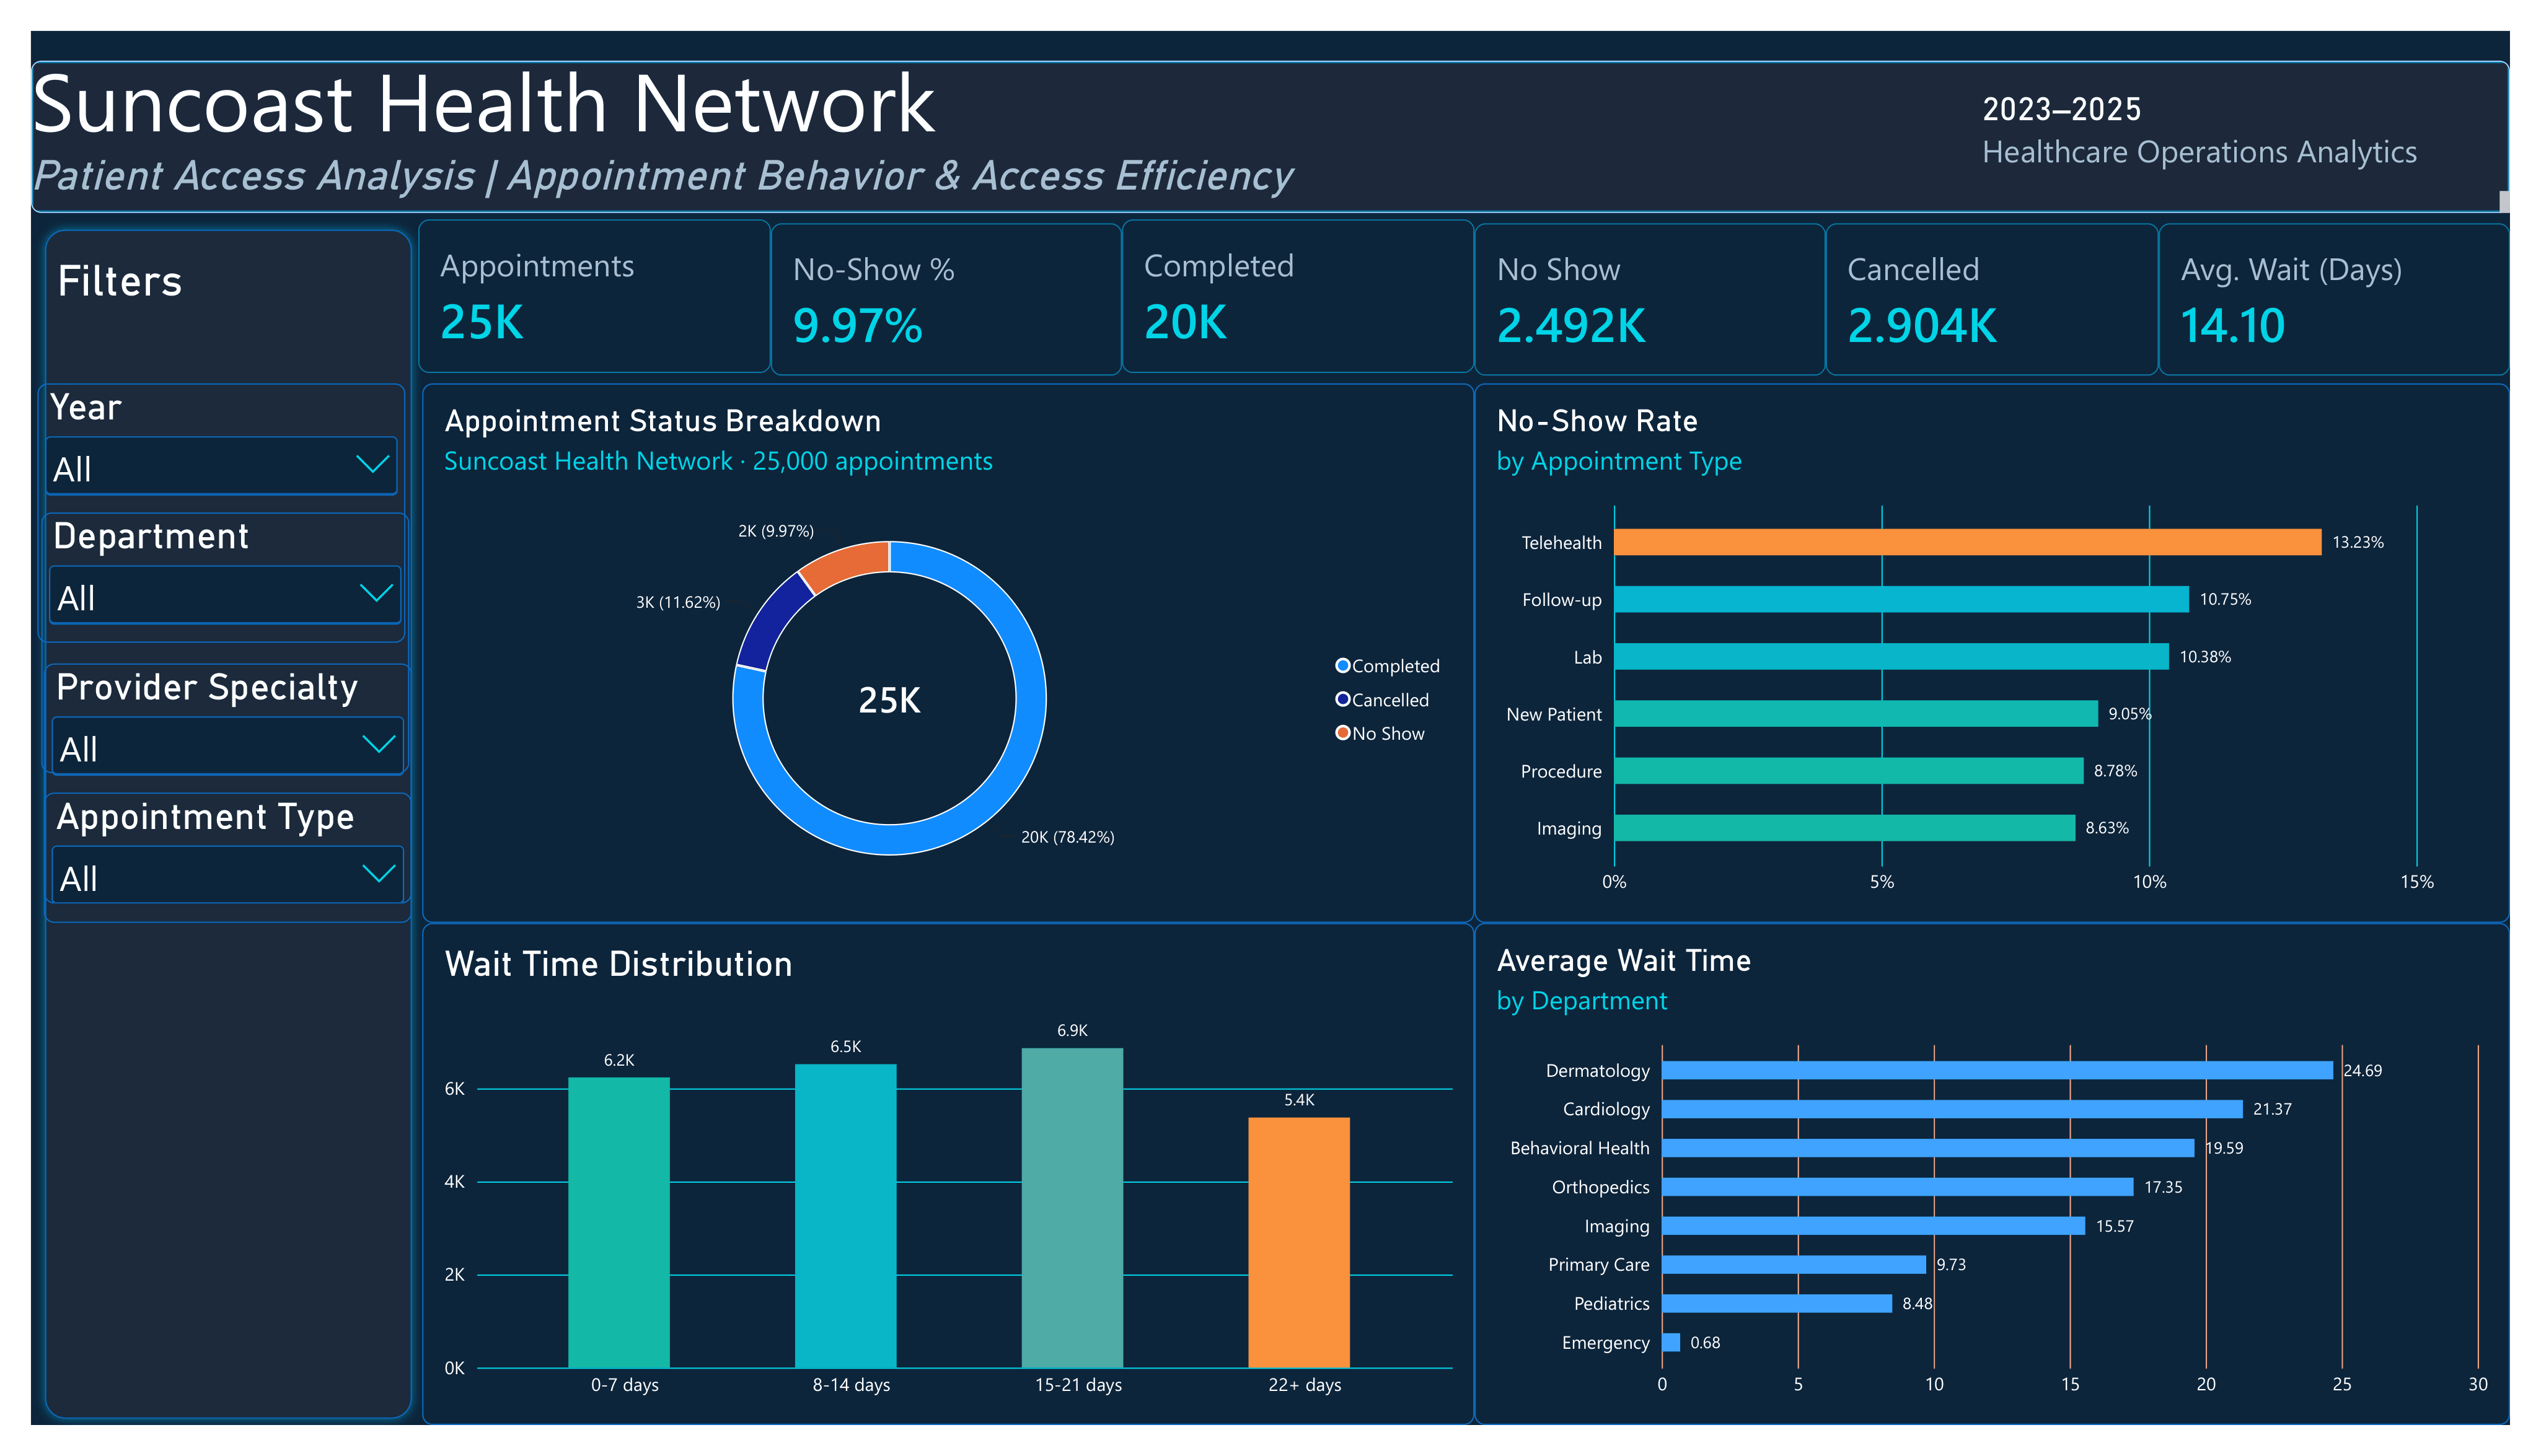

Layout of this report page (visuals, bound fields, positions):
{"tool":"powerbi","page":{"name":"Patient Access Analysis","canvas":[1920,1080],"ordinal":1},"visuals":[{"type":"shape","box":[0,22.7,1920.3,118.6],"z":0},{"type":"textbox","title":"Suncoast Health Network","box":[0,10.1,1140.6,138.8],"z":1000},{"type":"textbox","title":"Patient Access Analysis | Appointment Behavior & Access Efficiency","box":[0,93.4,1920.3,40.4],"z":2000},{"type":"textbox","title":"2023–2025 ","box":[1511.5,45.4,408.8,95.9],"z":3000},{"type":"shape","title":"Filters","box":[2.5,146.4,300.3,936.2],"z":4000},{"type":"textbox","title":"Filters","box":[20.2,174.1,244.8,93.4],"z":5000},{"type":"slicer","fields":{"Values":["DimDate.Year"]},"box":[5,272.5,285.1,201.9],"z":6000},{"type":"cardVisual","title":"No Show Rate","fields":{"Data":["FactAppointments.No Show Rate"]},"box":[572.8,148.9,272.5,118.6],"z":7000},{"type":"cardVisual","title":"No Show Rate","fields":{"Data":["DimDate.Total Appointments"]},"box":[300.3,146.4,272.5,118.6],"z":8000},{"type":"cardVisual","title":"No Show Rate","fields":{"Data":["FactAppointments.Completed Appointments"]},"box":[845.3,146.4,272.5,118.6],"z":9000},{"type":"cardVisual","title":"No Show Rate","fields":{"Data":["FactAppointments.No Show Appointments"]},"box":[1117.9,148.9,272.5,118.6],"z":10000},{"type":"cardVisual","title":"No Show Rate","fields":{"Data":["FactAppointments.Average Wait Time"]},"box":[1647.8,148.9,272.5,118.6],"z":11000},{"type":"cardVisual","title":"No Show Rate","fields":{"Data":["FactAppointments.Cancelled Appointments"]},"box":[1390.4,148.9,257.4,118.6],"z":12000},{"type":"slicer","fields":{"Values":["DimDepartment.DepartmentName"]},"box":[7.6,373.5,285.1,201.9],"z":13000},{"type":"slicer","fields":{"Values":["DimProvider.Specialty"]},"box":[10.1,489.5,285.1,201.9],"z":14000},{"type":"slicer","fields":{"Values":["FactAppointments.AppointmentType"]},"box":[10.1,590.5,285.1,85.8],"z":15000},{"type":"donutChart","title":"Appointment Status Breakdown","fields":{"Category":["FactAppointments.AppointmentStatus"],"Y":["DimDate.Total Appointments"]},"box":[302.8,272.5,815,418.9],"z":16000},{"type":"clusteredBarChart","title":"No-Show Rate ","fields":{"Category":["FactAppointments.AppointmentType"],"Y":["FactAppointments.No Show Rate"]},"box":[1117.9,272.5,802.4,418.9],"z":17000},{"type":"clusteredColumnChart","title":"Wait Time Distribution","fields":{"Category":["FactAppointments.Wait Time Band"],"Y":["DimDate.Total Appointments"]},"box":[302.8,691.4,815,388.6],"z":18000},{"type":"clusteredBarChart","title":"Average Wait Time","fields":{"Category":["DimDepartment.DepartmentName"],"Y":["FactAppointments.Average Wait Time"]},"box":[1117.9,691.4,802.4,388.6],"z":19000}]}

Visuals, with their boxes on the page's 1920x1080 design canvas (x1, y1, x2, y2). These are canvas units, not pixel positions in the 2541x1456 screenshot, which may show the page scaled, cropped or inside an application window:
shape: left=0, top=23, right=1920, bottom=141
"Suncoast Health Network" textbox: left=0, top=10, right=1141, bottom=149
"Patient Access Analysis | Appointment Behavior & Access Efficiency" textbox: left=0, top=93, right=1920, bottom=134
"2023–2025 " textbox: left=1512, top=45, right=1920, bottom=141
"Filters" shape: left=2, top=146, right=303, bottom=1083
"Filters" textbox: left=20, top=174, right=265, bottom=268
slicer - DimDate.Year: left=5, top=272, right=290, bottom=474
"No Show Rate" cardVisual: left=573, top=149, right=845, bottom=268
"No Show Rate" cardVisual: left=300, top=146, right=573, bottom=265
"No Show Rate" cardVisual: left=845, top=146, right=1118, bottom=265
"No Show Rate" cardVisual: left=1118, top=149, right=1390, bottom=268
"No Show Rate" cardVisual: left=1648, top=149, right=1920, bottom=268
"No Show Rate" cardVisual: left=1390, top=149, right=1648, bottom=268
slicer - DimDepartment.DepartmentName: left=8, top=374, right=293, bottom=575
slicer - DimProvider.Specialty: left=10, top=490, right=295, bottom=691
slicer - FactAppointments.AppointmentType: left=10, top=590, right=295, bottom=676
"Appointment Status Breakdown" donutChart: left=303, top=272, right=1118, bottom=691
"No-Show Rate " clusteredBarChart: left=1118, top=272, right=1920, bottom=691
"Wait Time Distribution" clusteredColumnChart: left=303, top=691, right=1118, bottom=1080
"Average Wait Time" clusteredBarChart: left=1118, top=691, right=1920, bottom=1080
